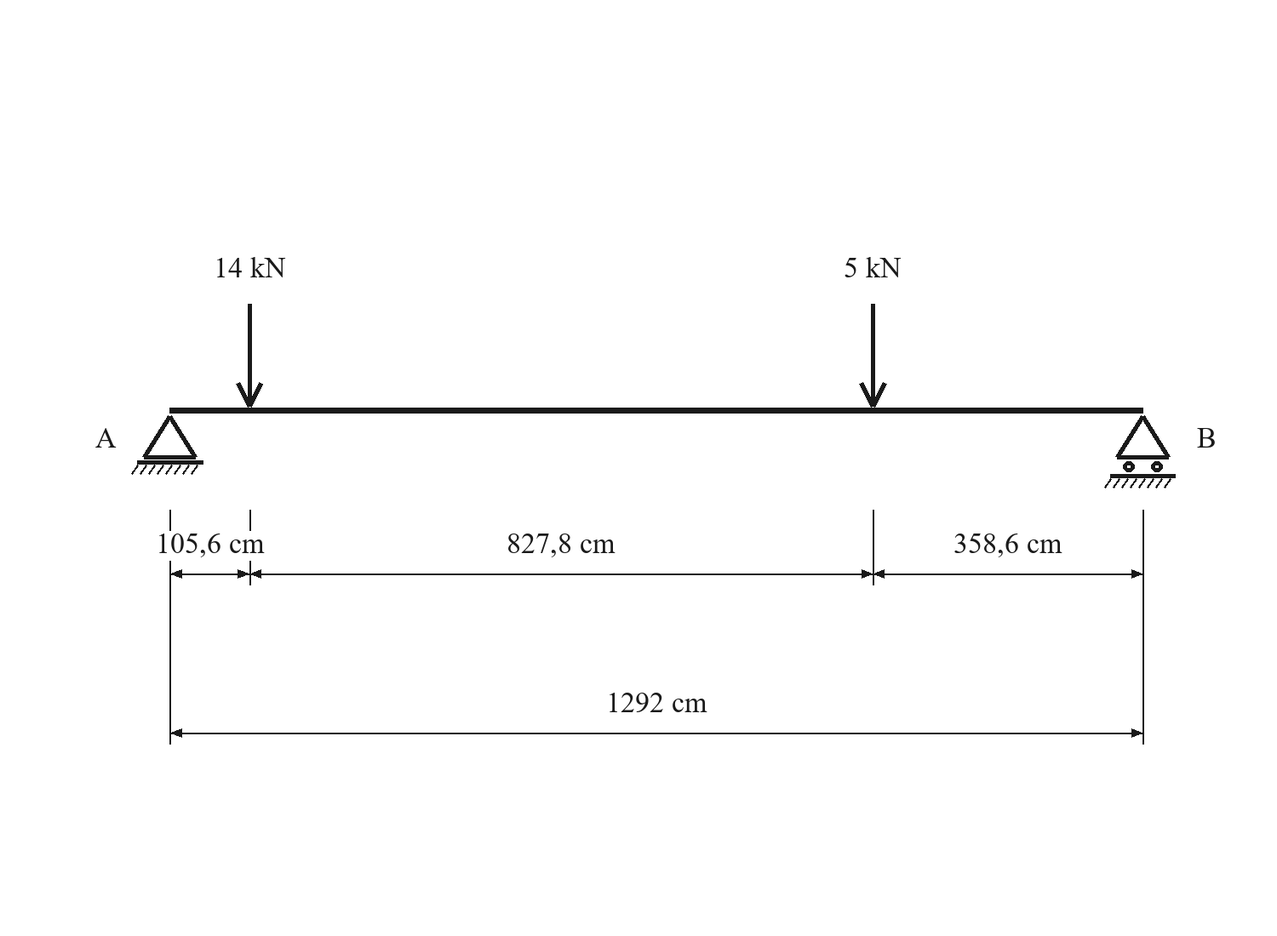pin_support: (131, 415, 203, 475)
point_load: (859, 304, 887, 408), (236, 304, 263, 408)
roller_support: (1104, 415, 1176, 488)
